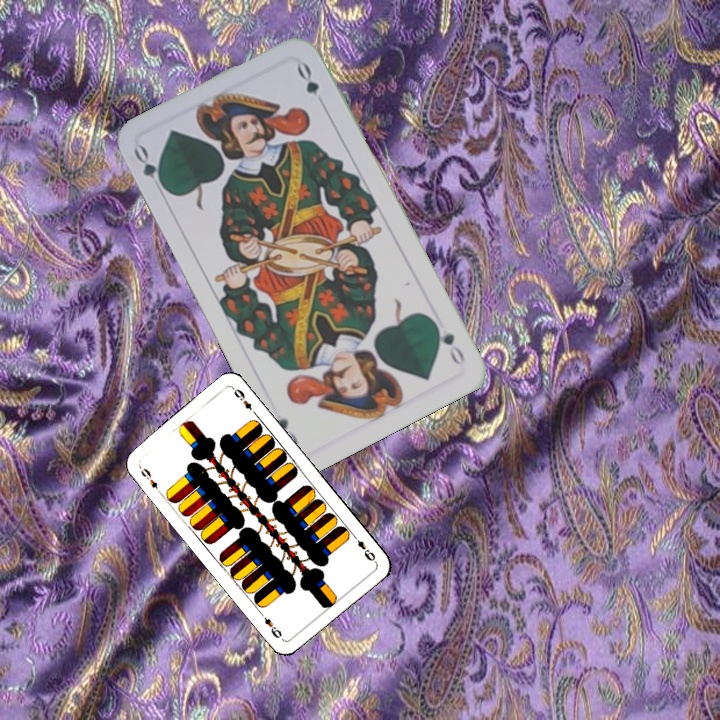E9: (135, 462, 164, 497), (349, 530, 378, 564)
GO: (129, 141, 171, 197), (428, 316, 468, 369)
